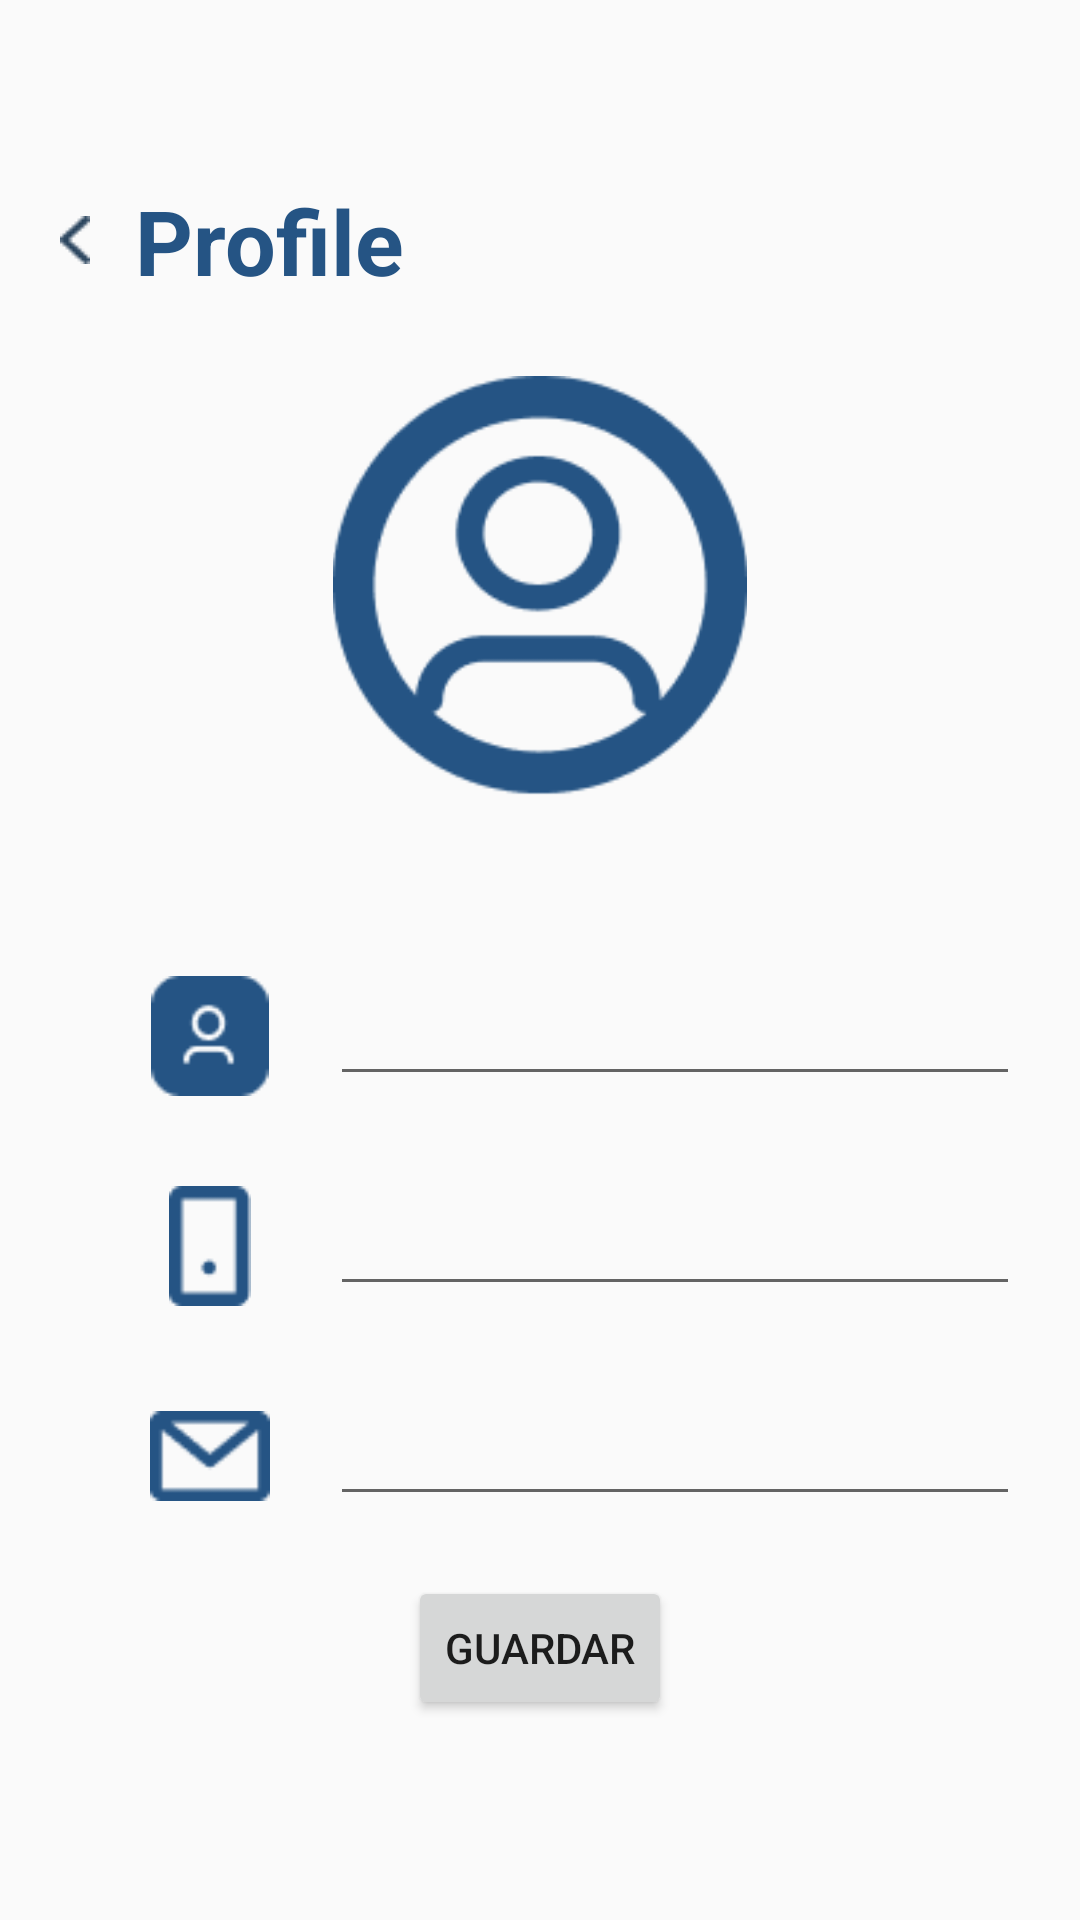

Named icons in this screenshot (1080*1920) and their bounding boxes, (x1, y1, x2, y2):
email: (150, 1411, 270, 1501)
mobile: (169, 1186, 251, 1306)
